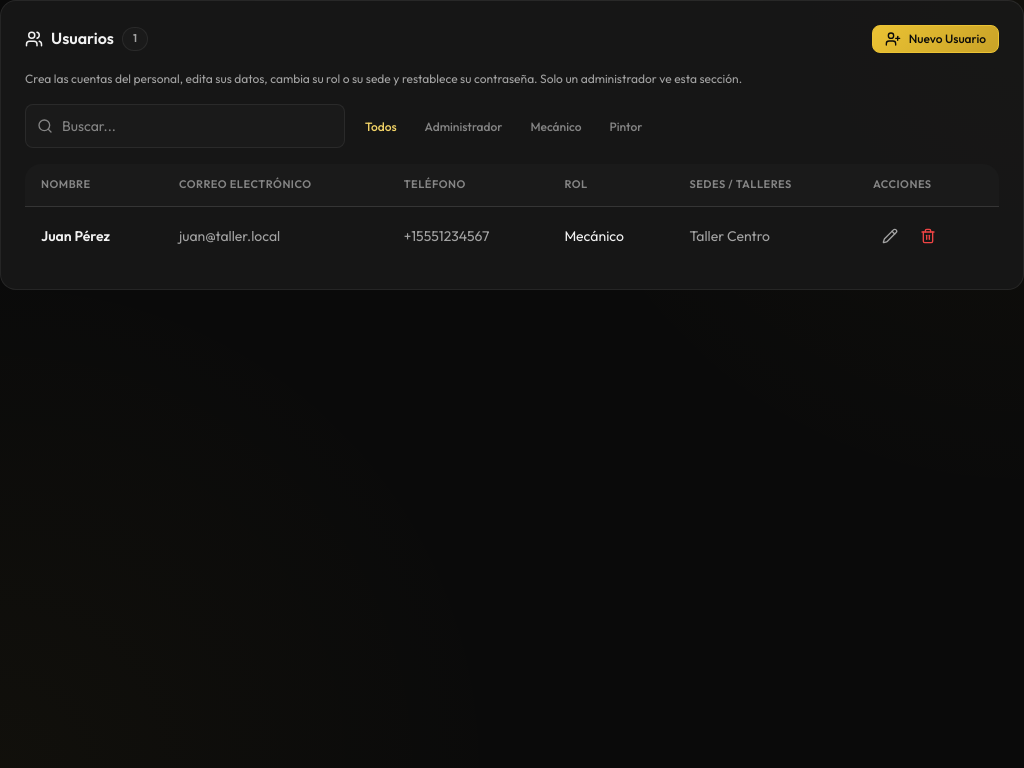
Test: UsersCard › muestra el selector de país en el formulario de nuevo usuario
Click the button "Nuevo Usuario".
click(935, 39)  # box 872,25 -> 999,53
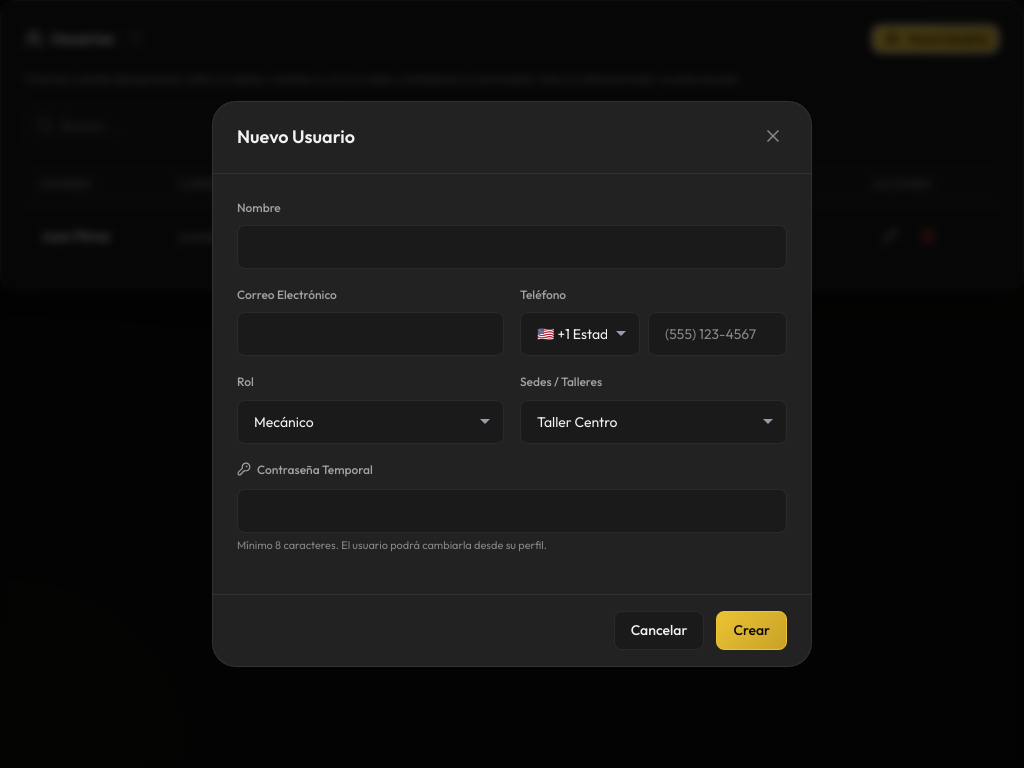
Expected: the dropdown named "País del teléfono" is shown, 520,312 -> 640,356
